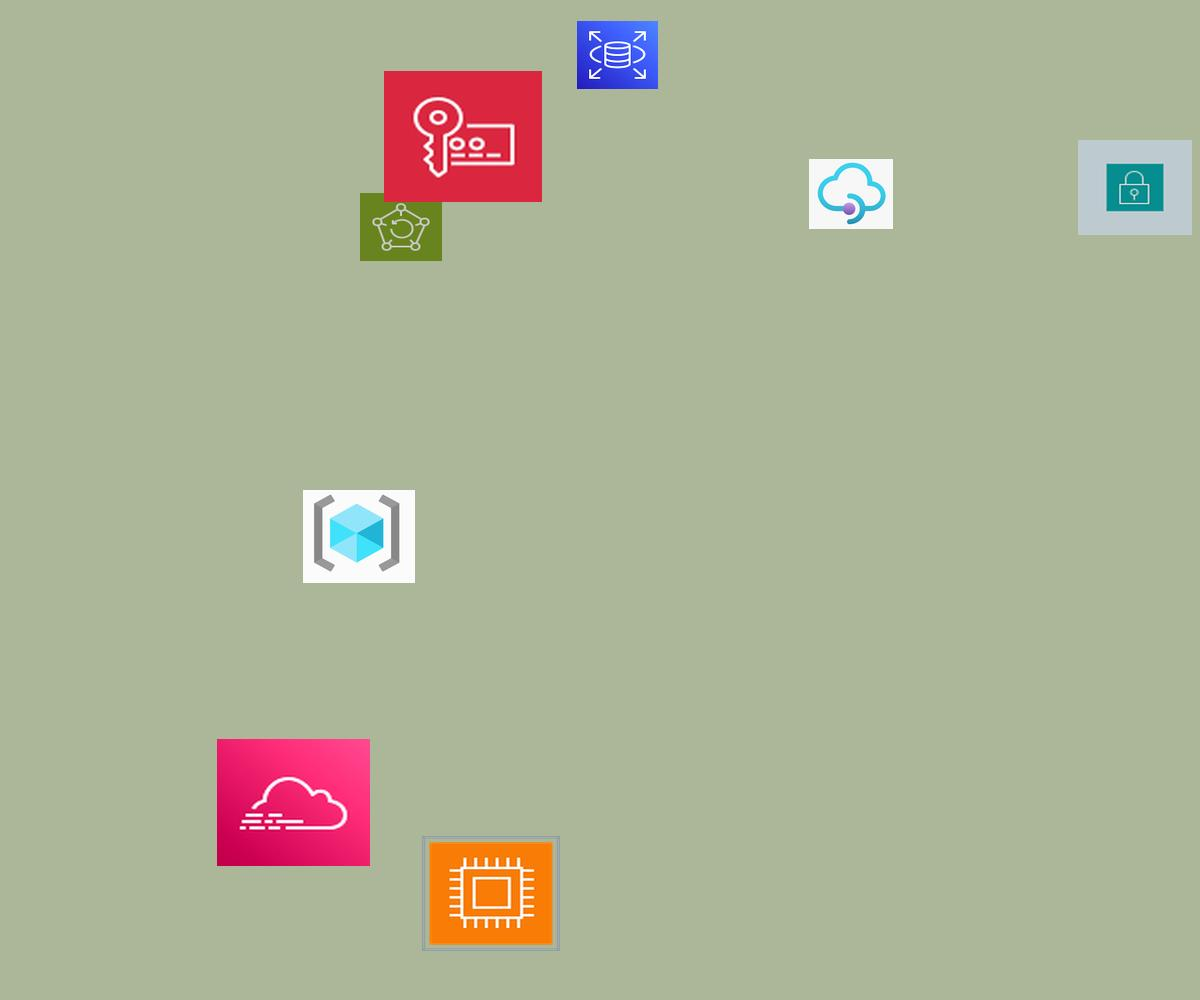AWS-Backup: (360, 193, 442, 261)
AWS-Category_Compute: (422, 836, 560, 951)
AWS-CloudTrail: (217, 739, 370, 866)
AWS-Key-Management-Service: (384, 71, 542, 202)
AWS-Private-subnet: (1078, 140, 1192, 235)
AWS-RDS: (577, 21, 658, 89)
Azure_api_gateway: (809, 159, 893, 229)
Azure_resource_group: (303, 490, 415, 583)
